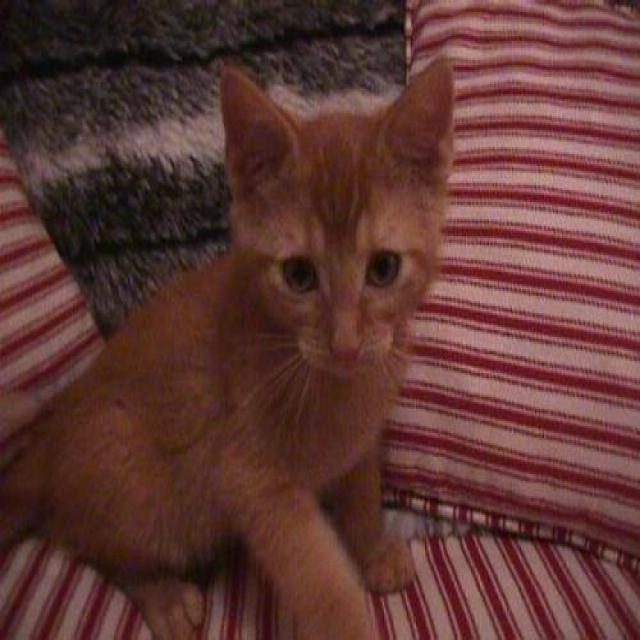cat: (0, 53, 456, 638)
